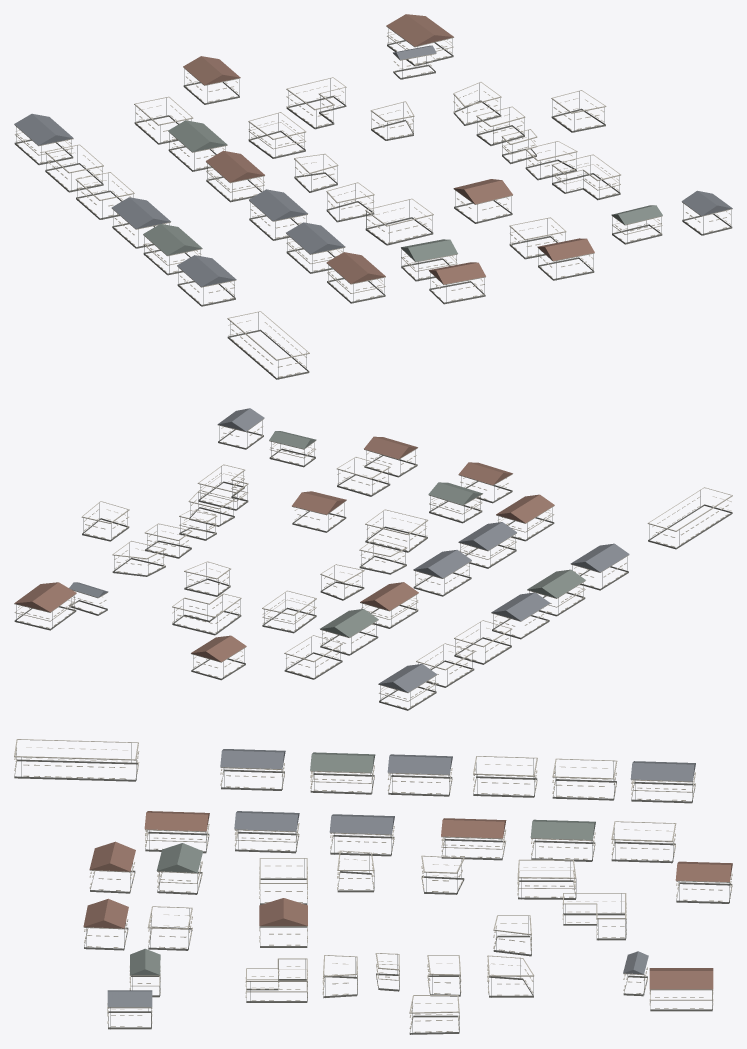
Rendered from district_0_0.glb.
3 renders of one model, top to bottom at view 1: azimuth 30°, elevation 25°; view 2: azimuth 150°, elevation 25°; view 3: azimuth 270°, elevation 25°, orthographic. The views are drawn at different scales.
Visible parts, largest first — view 1: RoofMetal, MasonryTrim, MetalDetails; view 2: MasonryTrim, RoofMetal, MetalDetails; view 3: MasonryTrim, RoofMetal, MetalDetails.
Part boxes in pixels (x1,y1,x2,y2): RoofMetal: [14, 14, 732, 286]; MasonryTrim: [14, 26, 732, 379]; MetalDetails: [16, 28, 731, 379]; MasonryTrim: [14, 418, 732, 710]; RoofMetal: [14, 408, 629, 692]; MetalDetails: [16, 420, 700, 709]; MasonryTrim: [14, 739, 732, 1034]; RoofMetal: [83, 749, 732, 1007]; MetalDetails: [16, 743, 729, 1034].
Size of the model in its own units: 200 by 10.1 by 221.
